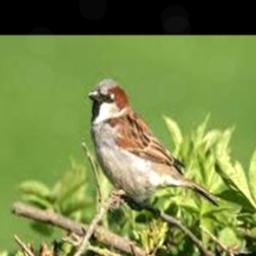Sparrow: (87, 78, 221, 208)
